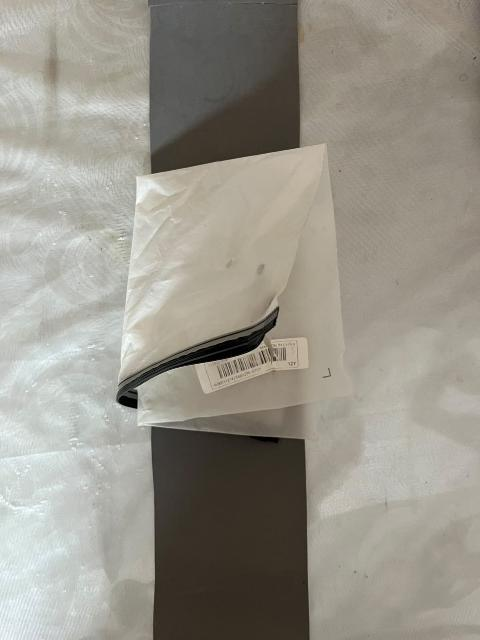LDPE: (59, 135, 407, 509)
